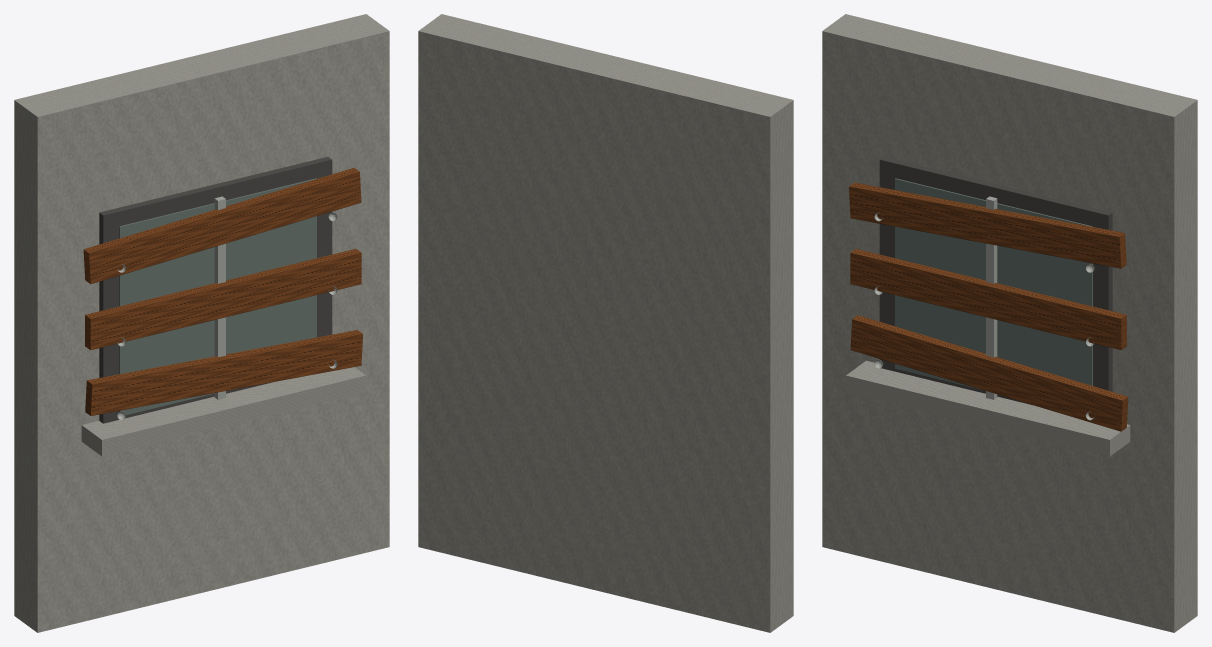
The model's file is signal-house-boarded-window-wall__193.glb.
3 views of the same model, side by side, from view 1: azimuth 30°, elevation 25°; view 2: azimuth 150°, elevation 25°; view 3: azimuth 330°, elevation 25° (orthographic).
Visible parts, largest first — view 1: stone, wood, glass, dark, metal; view 2: stone; view 3: stone, wood, glass, dark, metal.
Part boxes in pixels (<box>): stone: <box>14,14,389,632</box>; wood: <box>83,168,362,415</box>; glass: <box>119,178,316,415</box>; dark: <box>99,157,332,423</box>; metal: <box>117,196,337,420</box>; stone: <box>418,14,793,632</box>; stone: <box>822,14,1197,632</box>; wood: <box>849,182,1128,431</box>; glass: <box>895,178,1092,389</box>; dark: <box>879,157,1112,405</box>; metal: <box>874,196,1094,420</box>.
Size of the model in its own units: 2 by 2.8 by 0.43.
5 materials, 2 textured.
